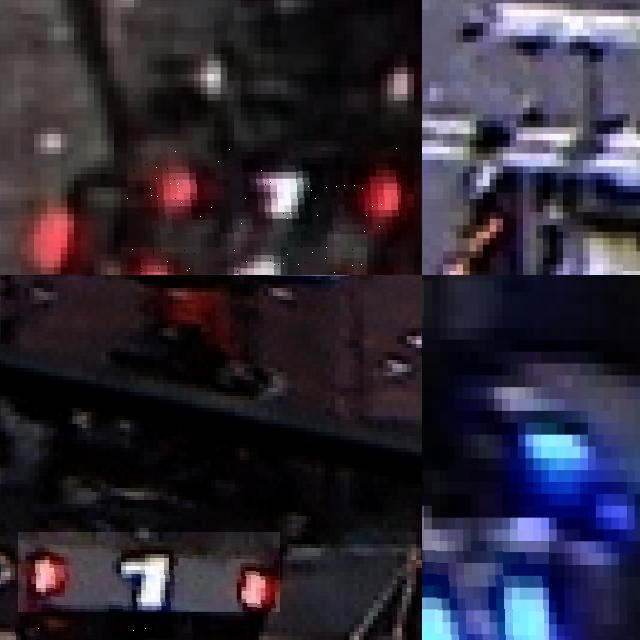B5: (422, 541, 549, 640)
R1: (127, 147, 401, 234), (18, 532, 280, 612), (120, 247, 367, 275)
